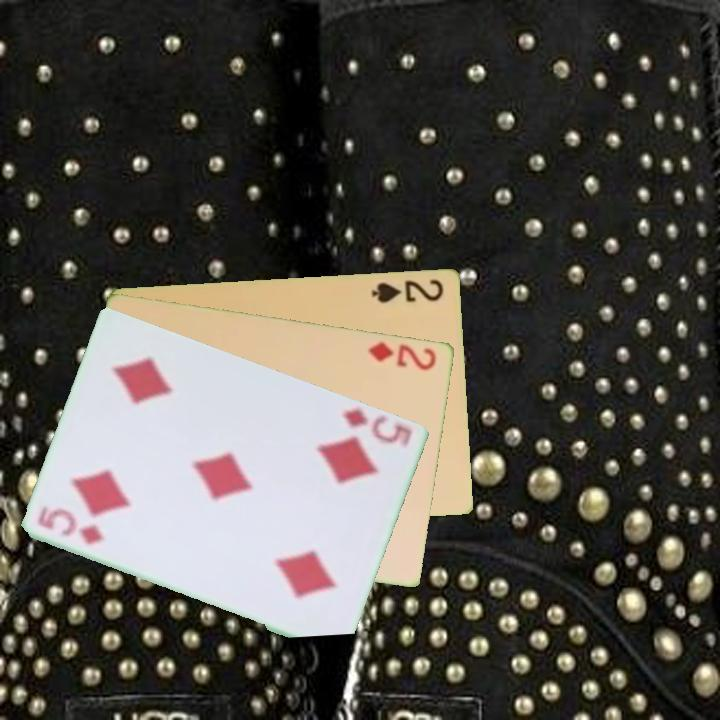2d: (365, 338, 440, 373)
2s: (369, 275, 447, 305)
5d: (338, 403, 415, 446), (35, 505, 108, 547)
